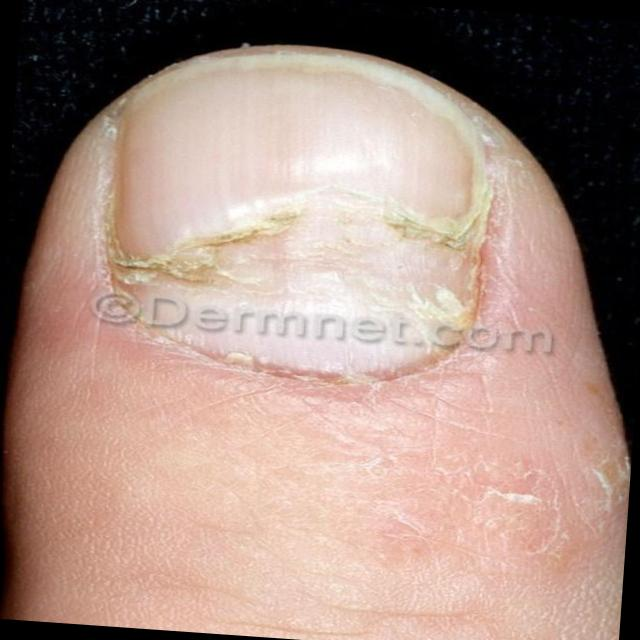Nail: (108, 51, 498, 382)
